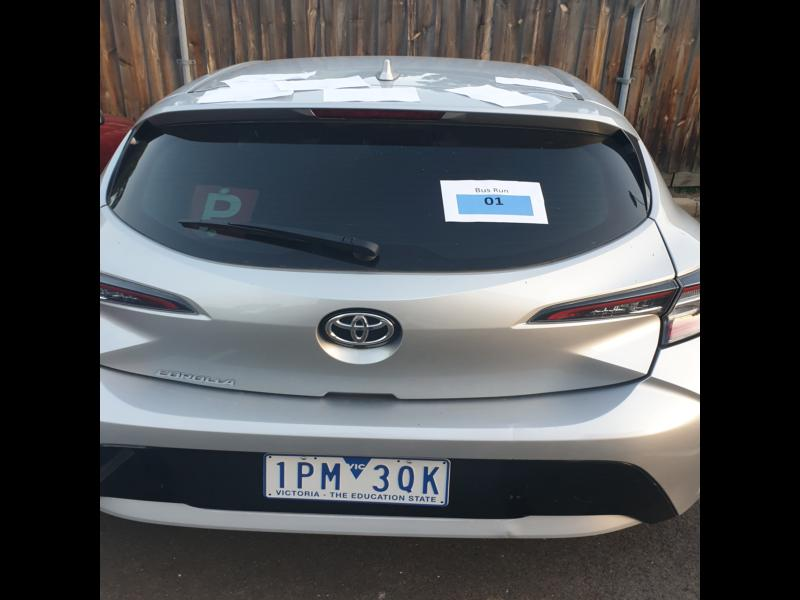BusRun: (456, 193, 533, 215)
PlateNo: (263, 453, 447, 505)
